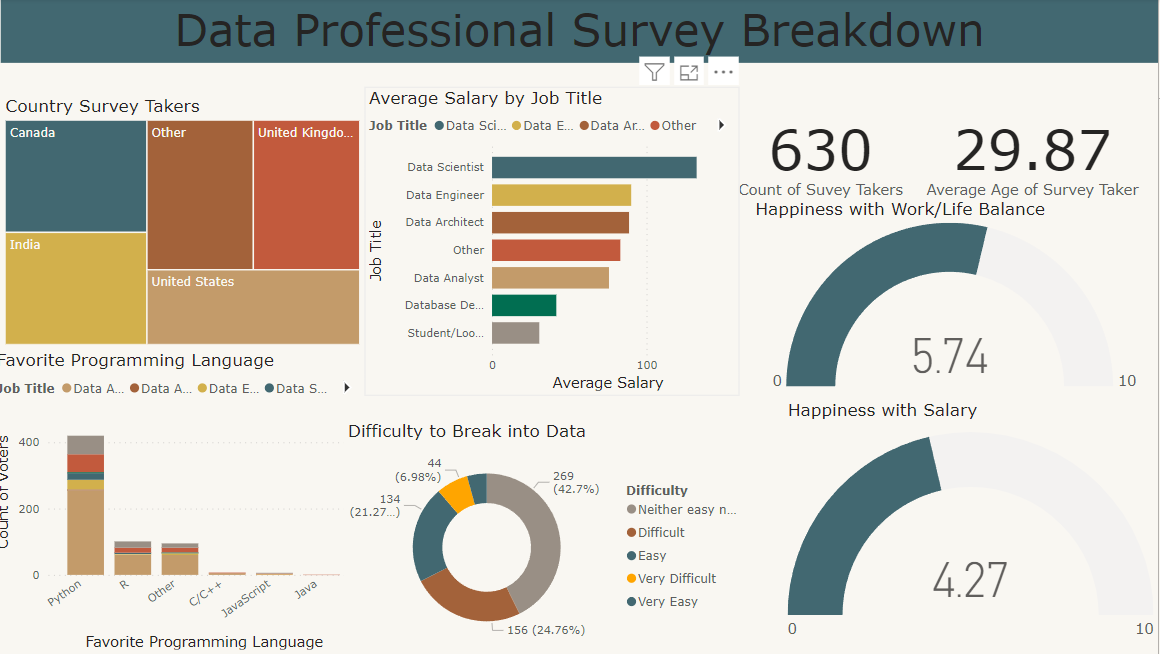

The page's visual inventory and layout, read from the dashboard file:
{"tool":"powerbi","page":{"name":"Page 1","canvas":[1280,720],"ordinal":0},"visuals":[{"type":"textbox","box":[9.6,0,1270.7,71.4],"z":0},{"type":"card","fields":{"Values":["CountNonNull(Data Professional Survey.Unique ID)"]},"box":[787.7,97.4,244.3,150.9],"z":1000},{"type":"card","fields":{"Values":["Avg(Data Professional Survey.Q10 - Current Age)"]},"box":[1004.5,97.4,275.8,150.9],"z":2000},{"type":"barChart","title":"Average Salary by Job Title","fields":{"Category":["Data Professional Survey.Q1 - Which Title Best Fits your Current Role?.1"],"Y":["Avg(Data Professional Survey.Average Salary )"],"Series":["Data Professional Survey.Q1 - Which Title Best Fits your Current Role?.1"]},"box":[408.9,97.4,411.7,338.9],"z":3000},{"type":"columnChart","title":"Favorite Programming Language","fields":{"Category":["Data Professional Survey.Q5 - Favorite Programming Language.1"],"Y":["CountNonNull(Data Professional Survey.Unique ID)"],"Series":["Data Professional Survey.Q1 - Which Title Best Fits your Current Role?.1"]},"box":[0,385.6,408.9,334.8],"z":4000},{"type":"treemap","title":"Country Survey Takers","fields":{"Group":["Data Professional Survey.Q11 - Which Country do you live in?.1"],"Values":["Count(Data Professional Survey.Q11 - Which Country do you live in?.1)"]},"box":[9.6,107,399.3,278.6],"z":5000},{"type":"gauge","title":" Happiness with Work/Life Balance","fields":{"Y":["Avg(Data Professional Survey.Q6 - How Happy are you in your Current Position with the following? (Work/Life Balance))"],"MinValue":["Min(Data Professional Survey.Q6 - How Happy are you in your Current Position with the following? (Work/Life Balance))"],"MaxValue":["Max(Data Professional Survey.Q6 - How Happy are you in your Current Position with the following? (Work/Life Balance))1"]},"box":[832.9,219.6,447.3,216.8],"z":6000},{"type":"gauge","title":"Happiness with Salary","fields":{"Y":["Avg(Data Professional Survey.Q6 - How Happy are you in your Current Position with the following? (Salary))"],"MinValue":["Min(Data Professional Survey.Q6 - How Happy are you in your Current Position with the following? (Salary))"],"MaxValue":["Max(Data Professional Survey.Q6 - How Happy are you in your Current Position with the following? (Salary))1"]},"box":[868.6,440.5,411.7,279.9],"z":7000},{"type":"donutChart","title":"Difficulty to Break into Data","fields":{"Category":["Data Professional Survey.Q7 - How difficult was it for you to break into Data?"],"Y":["CountNonNull(Data Professional Survey.Q7 - How difficult was it for you to break into Data?)"]},"box":[385.6,463.8,447.3,256.6],"z":8000}]}

Visuals, with their boxes in screenshot pixels (x1, y1, x2, y2), scaled from the page's 1280x720 canvas onto the 1160x654 screenshot:
textbox: bbox(9, 0, 1159, 65)
card - CountNonNull(Data Professional Survey.Unique ID): bbox(714, 88, 935, 226)
card - Avg(Data Professional Survey.Q10 - Current Age): bbox(910, 88, 1159, 226)
"Average Salary by Job Title" barChart: bbox(371, 88, 744, 396)
"Favorite Programming Language" columnChart: bbox(0, 350, 371, 653)
"Country Survey Takers" treemap: bbox(9, 97, 371, 350)
" Happiness with Work/Life Balance" gauge: bbox(755, 199, 1159, 396)
"Happiness with Salary" gauge: bbox(787, 400, 1159, 653)
"Difficulty to Break into Data" donutChart: bbox(349, 421, 755, 653)
